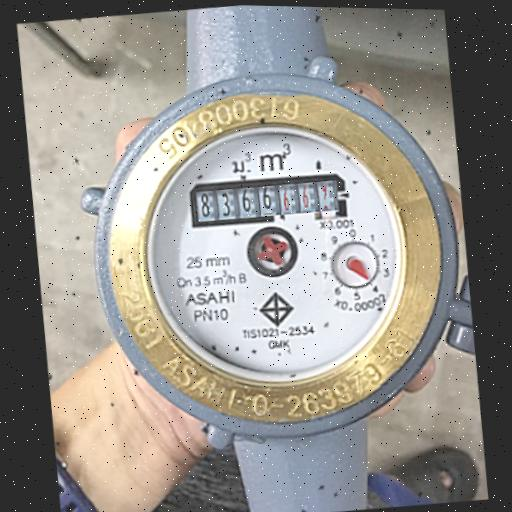3: (215, 189, 235, 220)
6: (236, 187, 255, 217), (277, 185, 296, 214), (258, 184, 275, 216), (297, 182, 314, 214)
8: (195, 190, 215, 222)
9: (316, 182, 335, 211)
border_water_meter_number: (186, 167, 349, 233)
